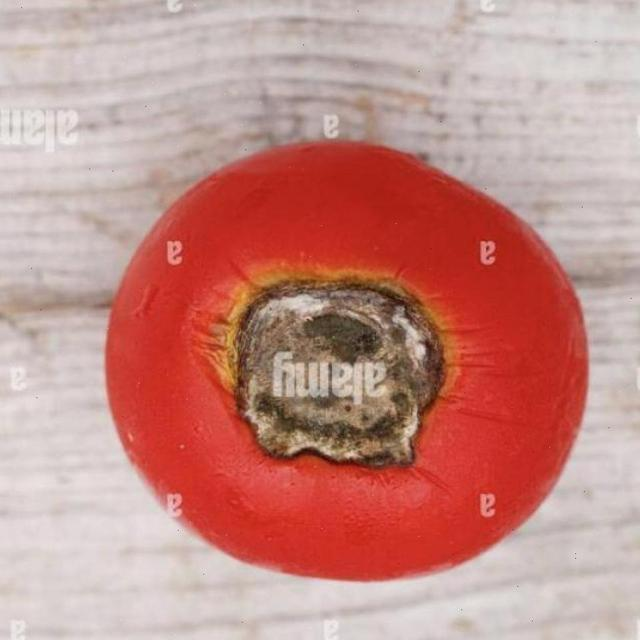Blossom End Rot Fruit: (145, 169, 299, 317)
